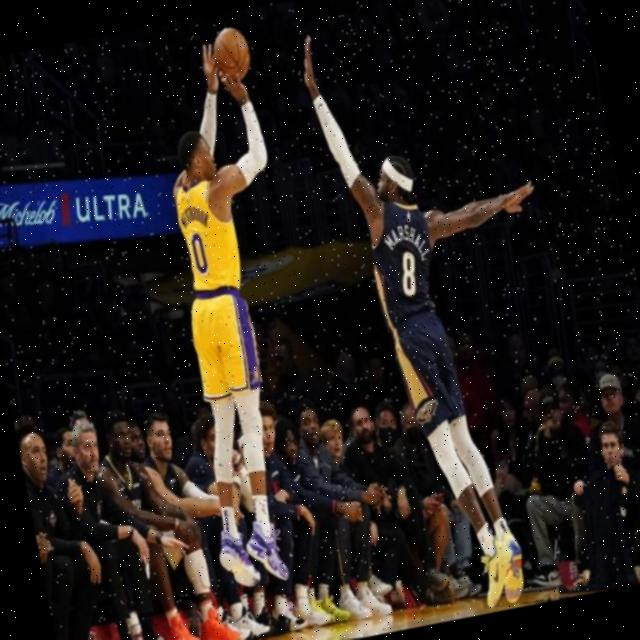ball: (206, 20, 258, 85)
